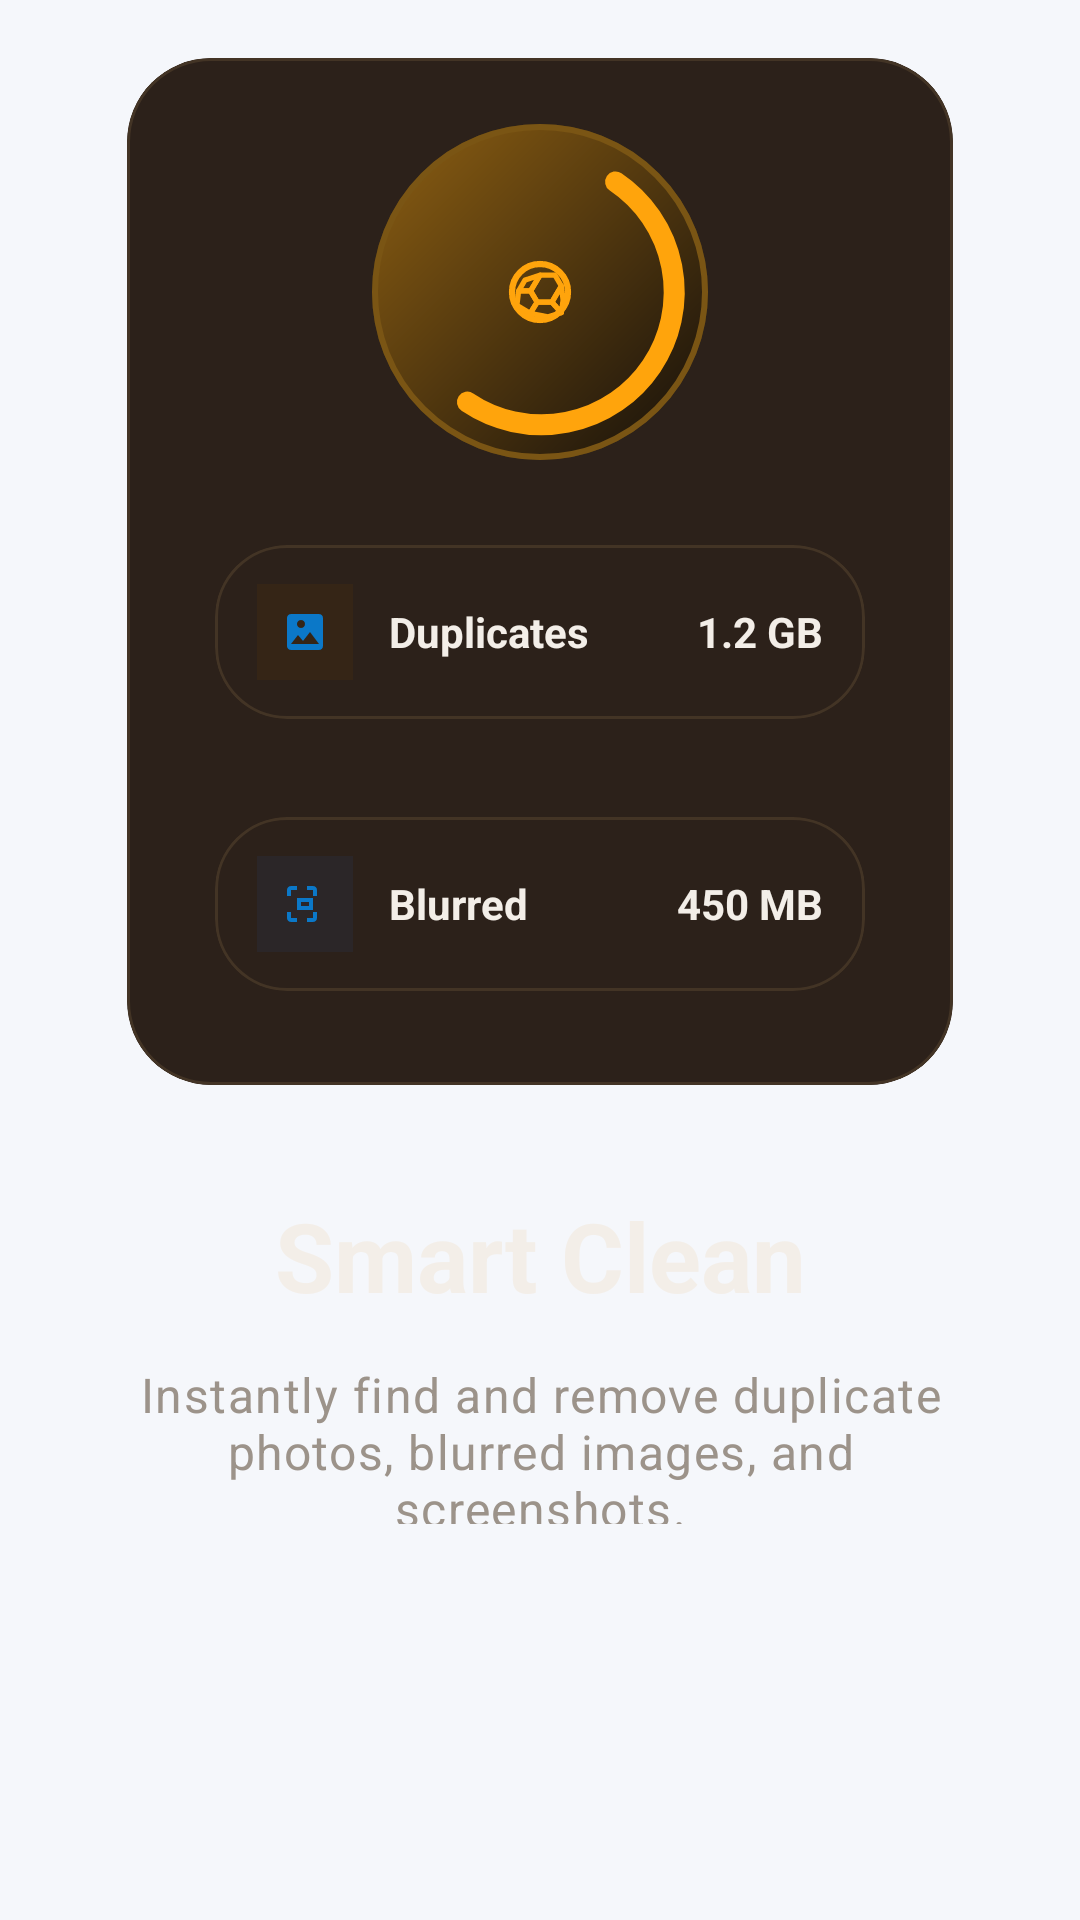

Locate icon controls on the screen. Image size 1080*1920, boxes as (x1,y1,x2,y2).
photo: (287,614,323,650)
